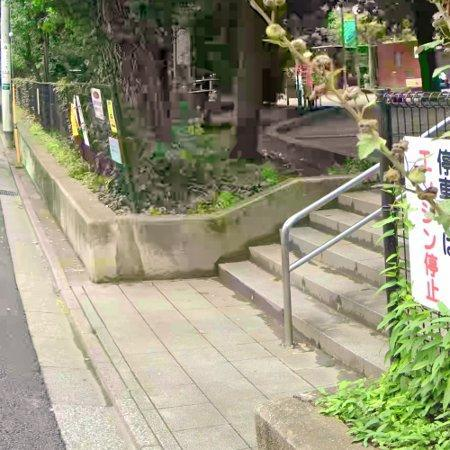stairs: (292, 221, 388, 378), (291, 192, 380, 261), (219, 244, 283, 321)
